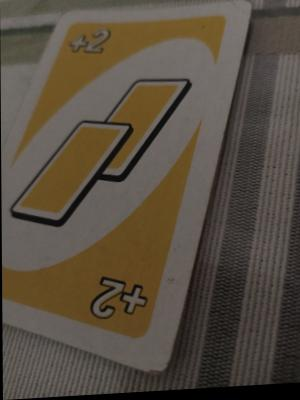-2: (81, 259, 160, 329), (62, 21, 123, 73)
yellow: (12, 74, 203, 245)
